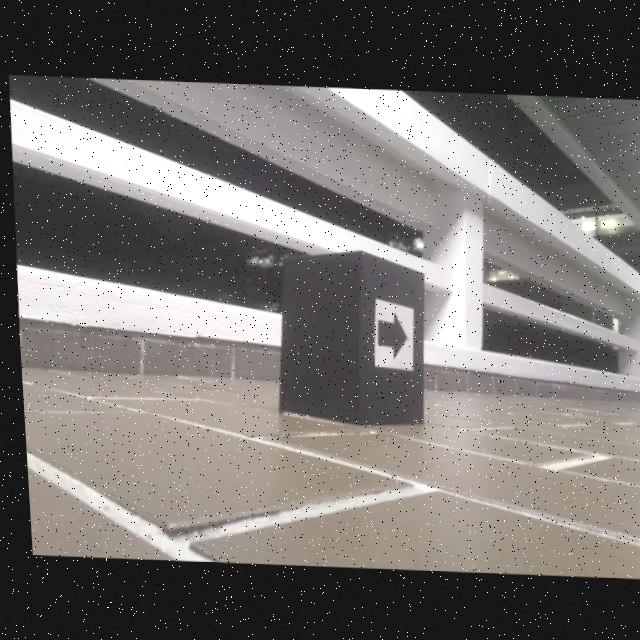RIGHT: (373, 311, 403, 358)
